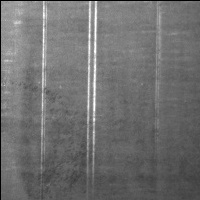scratches: (84, 1, 100, 191), (38, 1, 50, 185), (153, 3, 164, 144)
